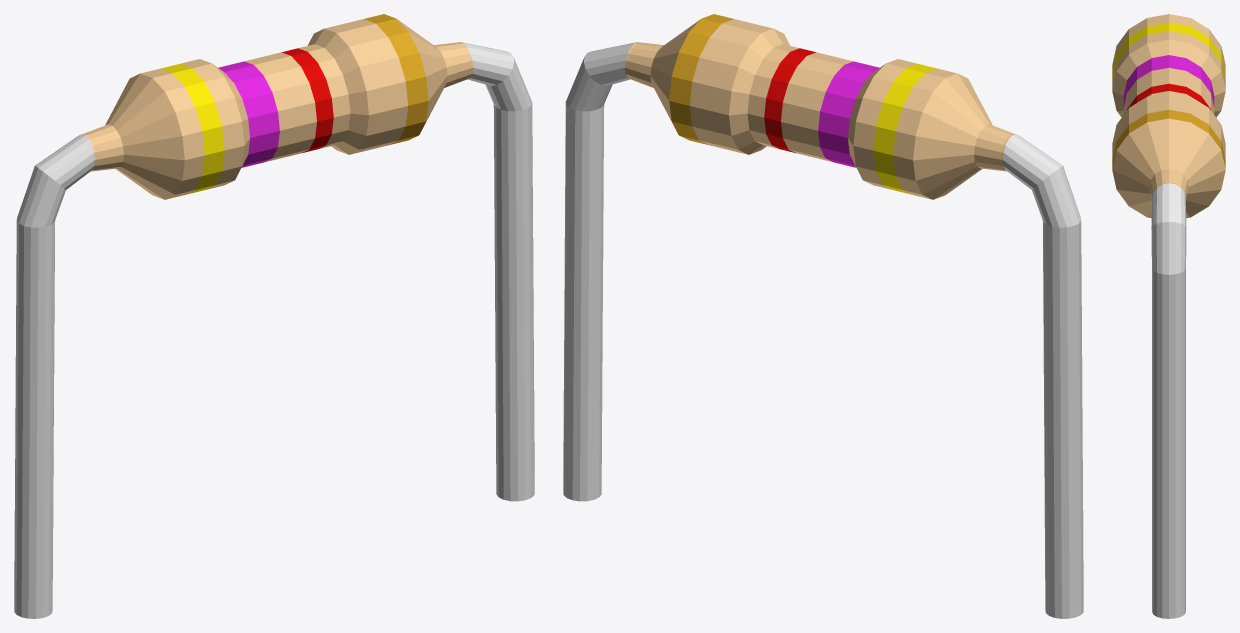
File: resistencia.glb
The picture shows the model from 3 angles, left to right: view 1: azimuth 30°, elevation 25°; view 2: azimuth 150°, elevation 25°; view 3: azimuth 270°, elevation 25°; orthographic projection. The views are drawn at different scales.
Parts seen in each view (by area): view 1: Resistor.000; view 2: Resistor.000; view 3: Resistor.000.
Boxes of the visible parts, x1,y1,x2,y2 form: Resistor.000: (14,14,534,618); Resistor.000: (563,14,1083,618); Resistor.000: (1112,14,1225,618).
Bounding box in the file's own units: 2.76 × 2.58 × 0.6.
